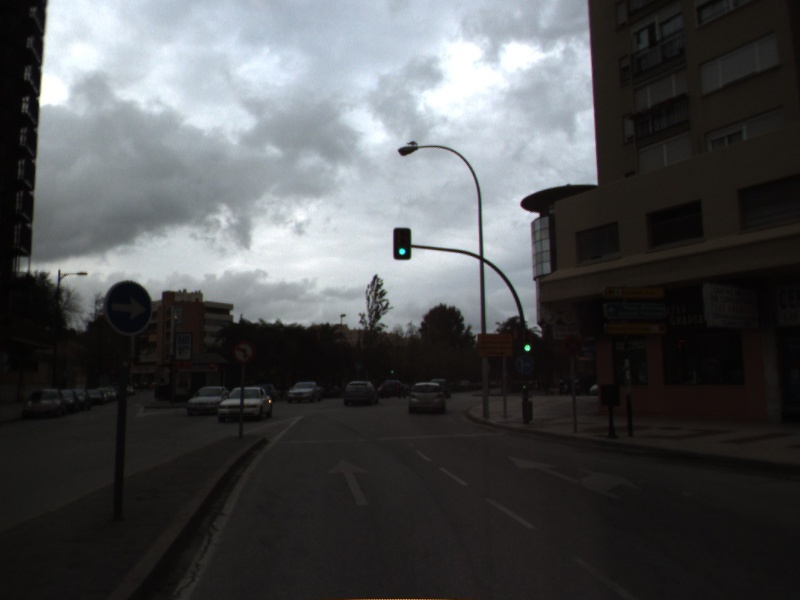STRAIGHT: (324, 455, 372, 509)
STRAIGHT_RIGHT: (503, 451, 645, 501)
